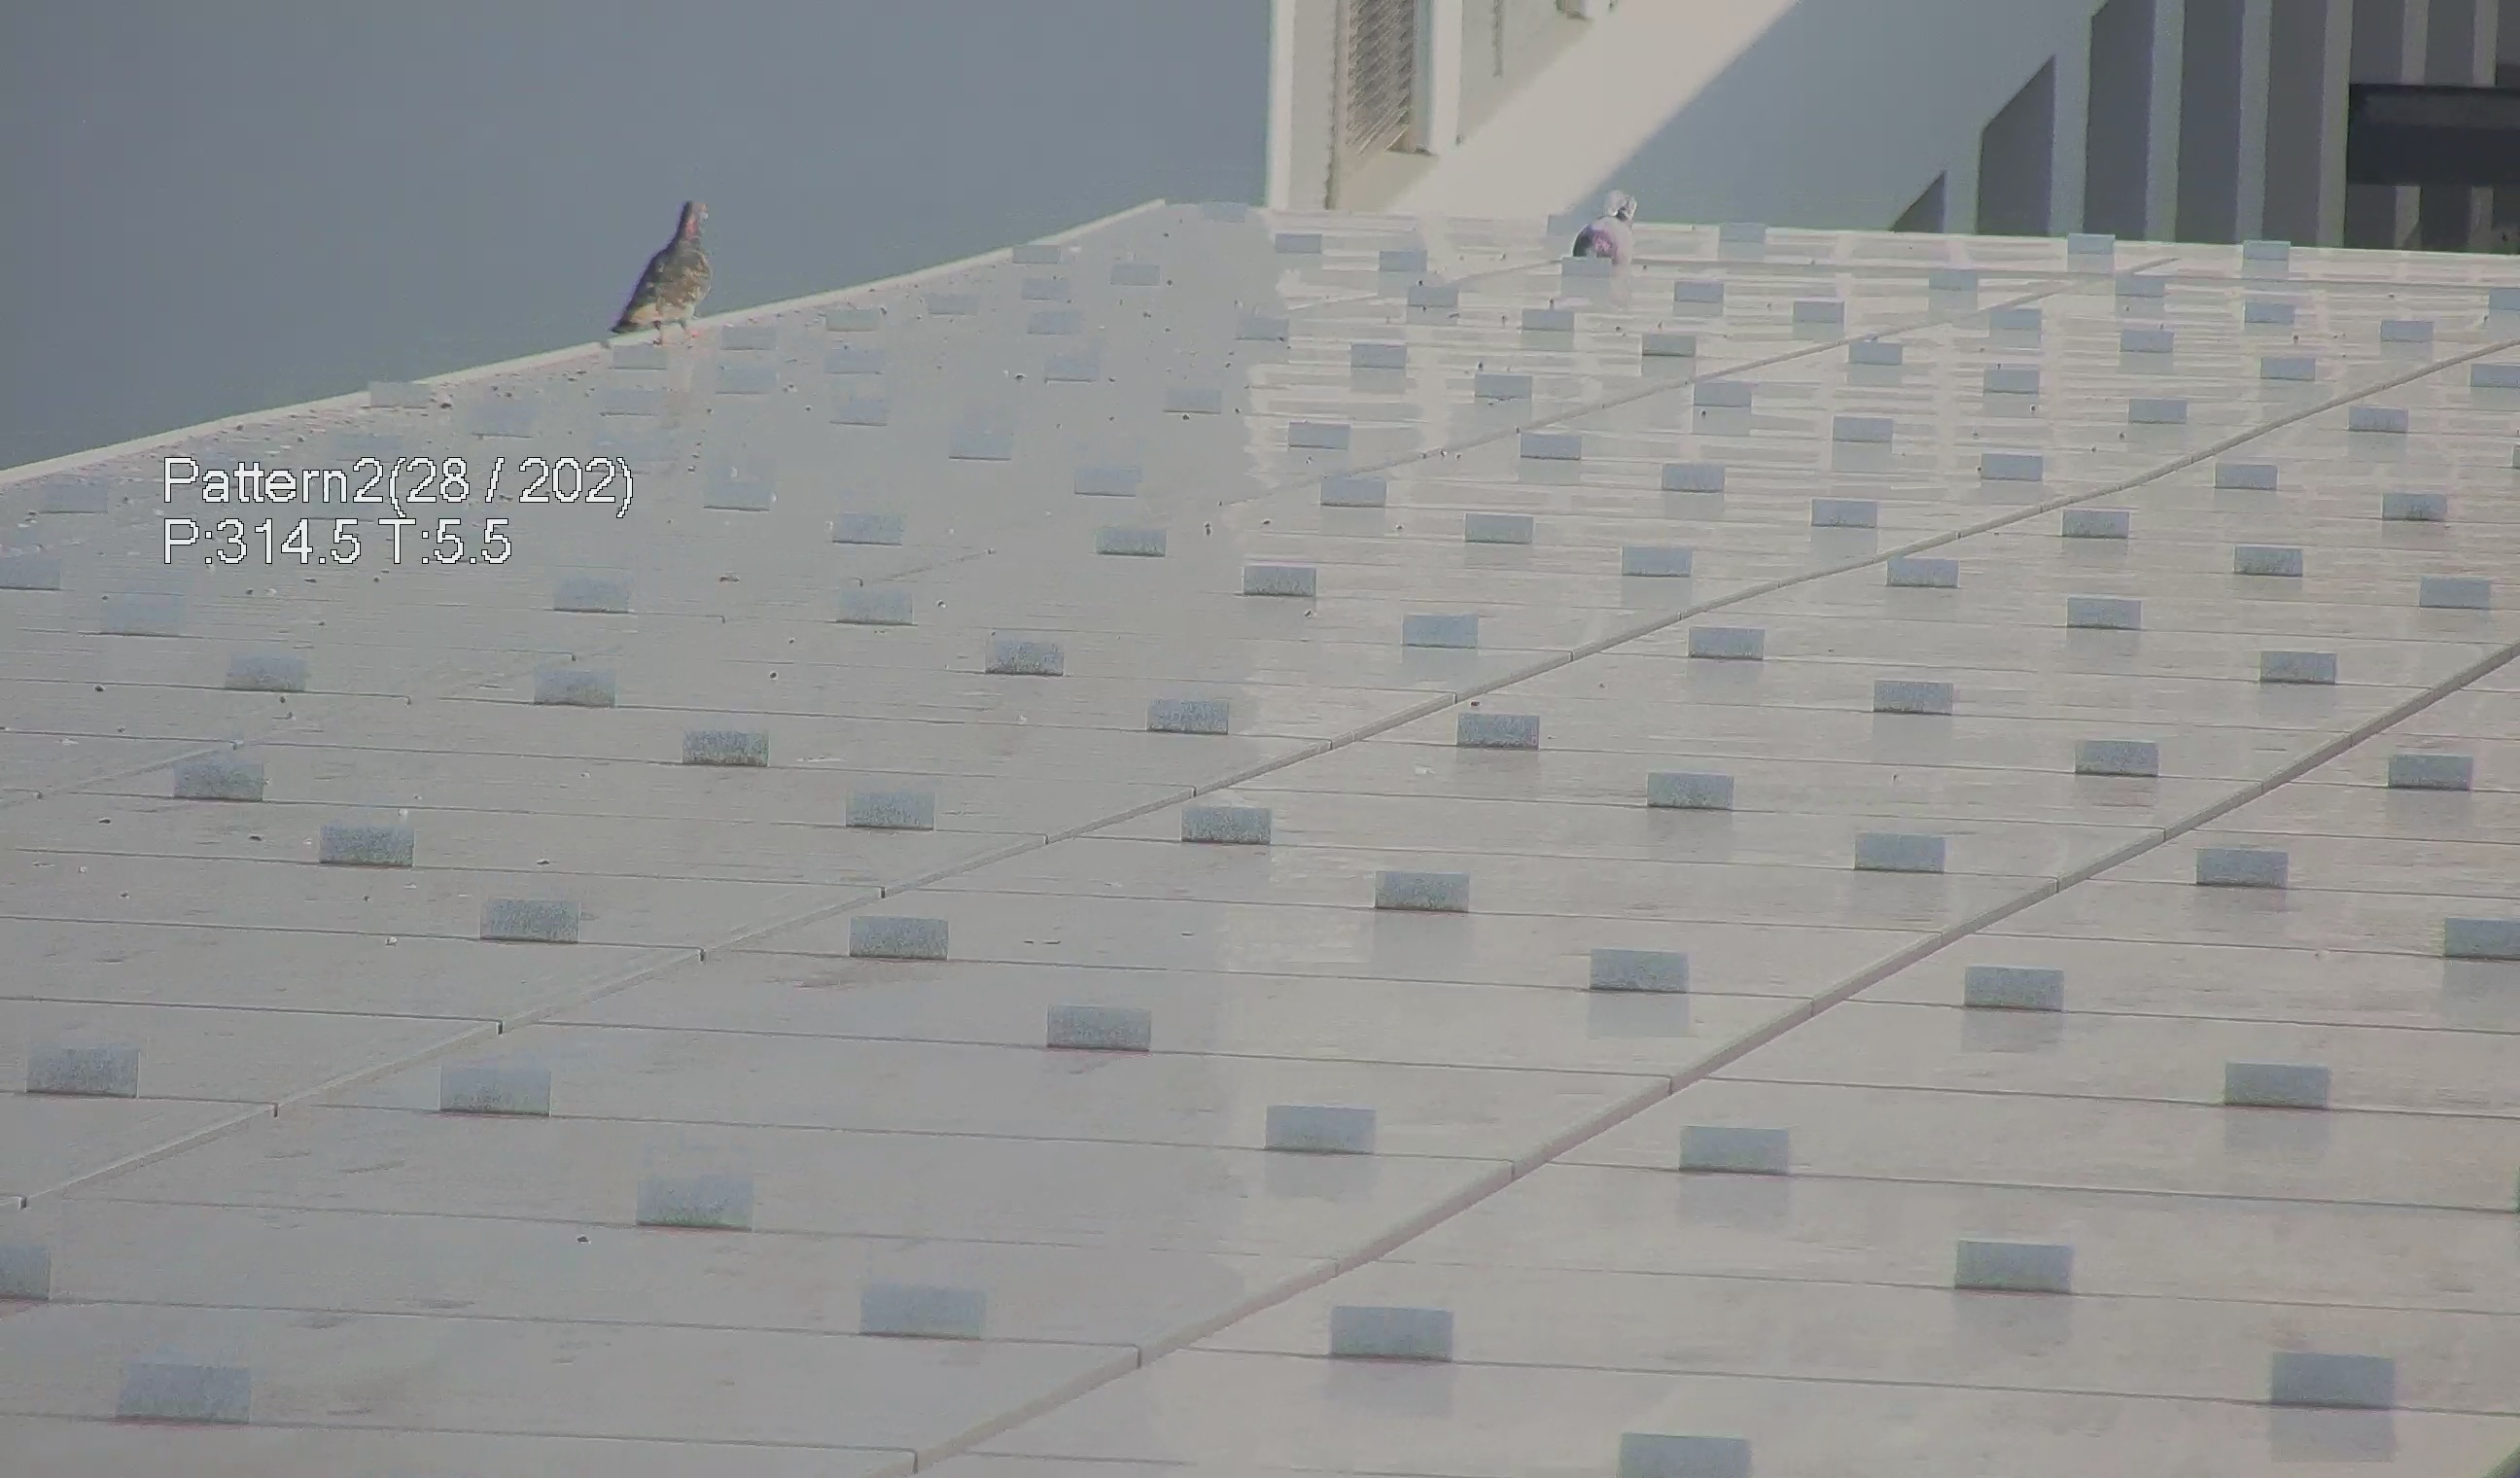Pigeon: (586, 187, 709, 341), (1562, 174, 1671, 276)
